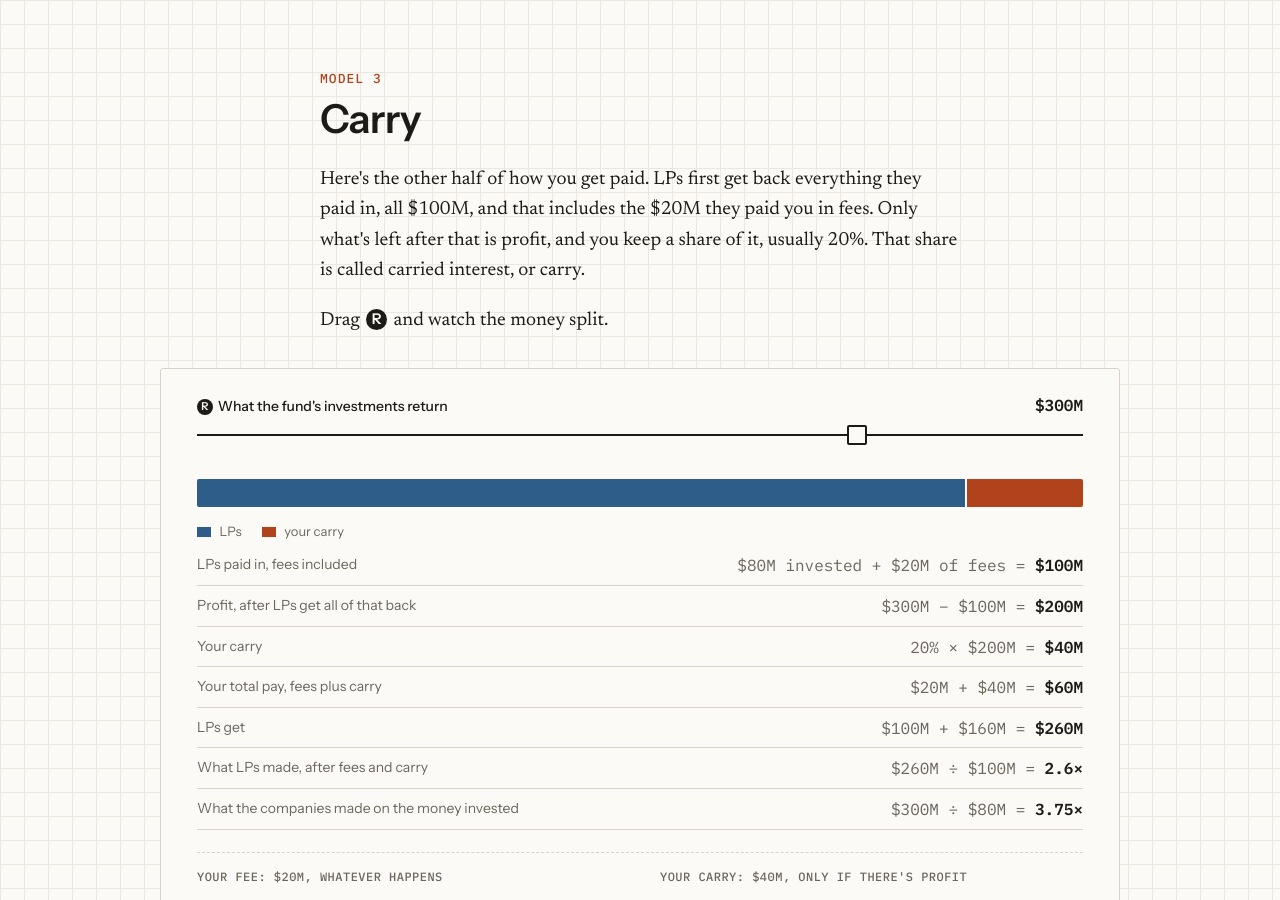
Part two, model 3: carry › never prints a subtraction that doesn't add up when there is no profit
The width and height of the screenshot is (1280, 900).
Set the slider named "R, what the fund's investments return" to "2". click: (422, 435)
box: x1=197 y1=421 x2=1083 y2=449
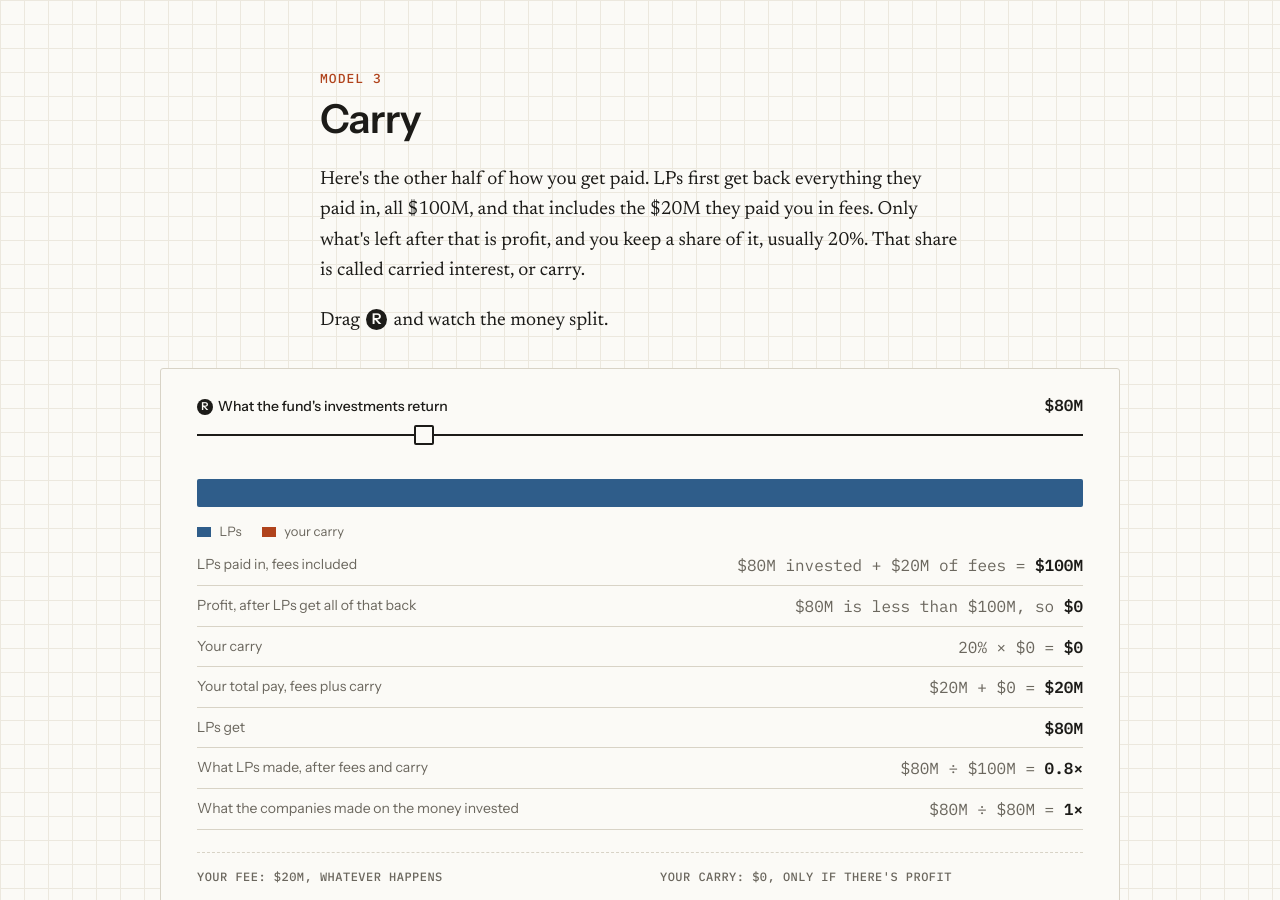
Expected: the element with test id "f3-profit" reads "$80M is less than $100M, so $0", x1=795 y1=596 x2=1083 y2=618
Set the slider named "R, what the fund's investments return" to "0". click: (205, 435)
box: x1=197 y1=421 x2=1083 y2=449
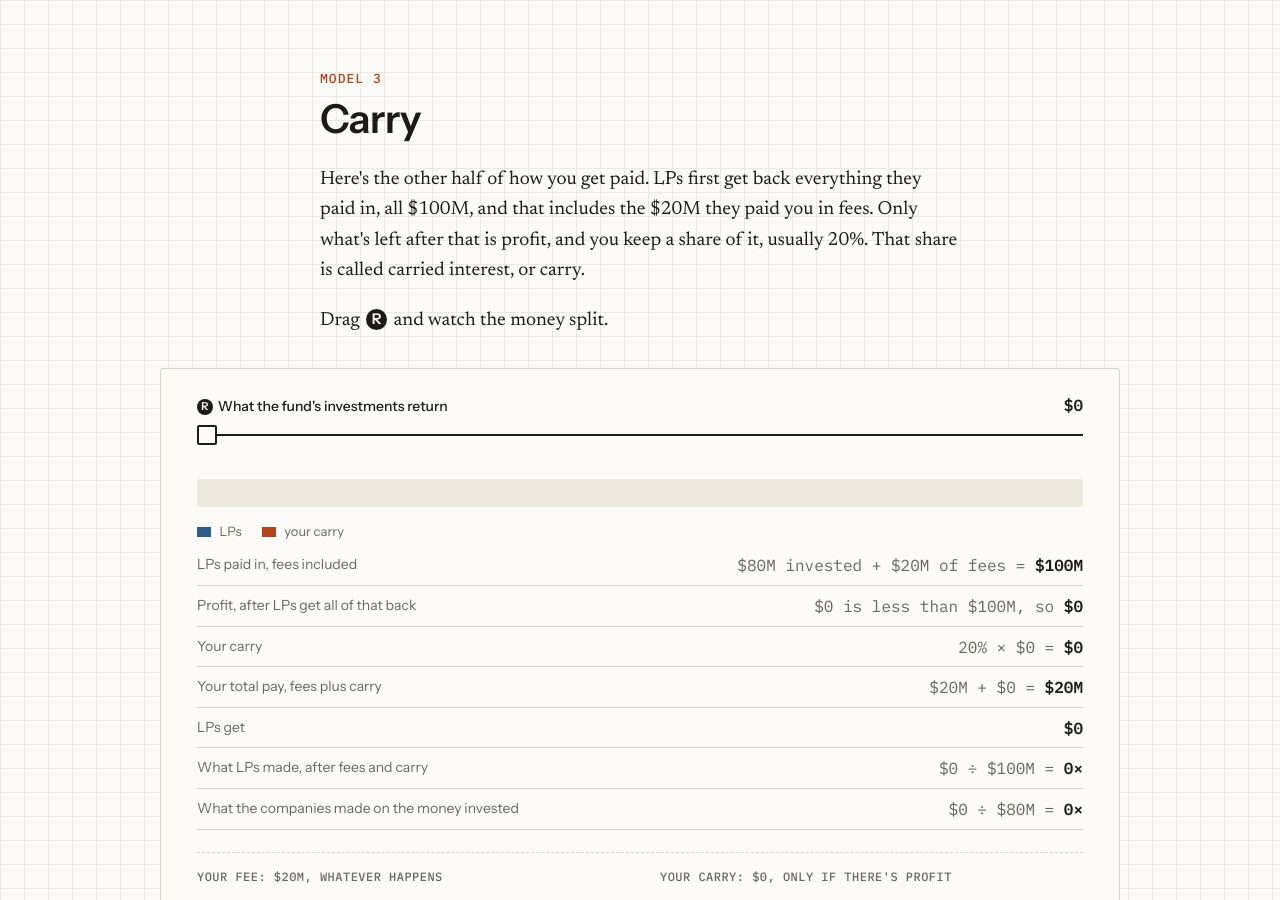
Expected: the element with test id "f3-profit" reads "$0 is less than $100M, so $0", x1=814 y1=596 x2=1083 y2=618
